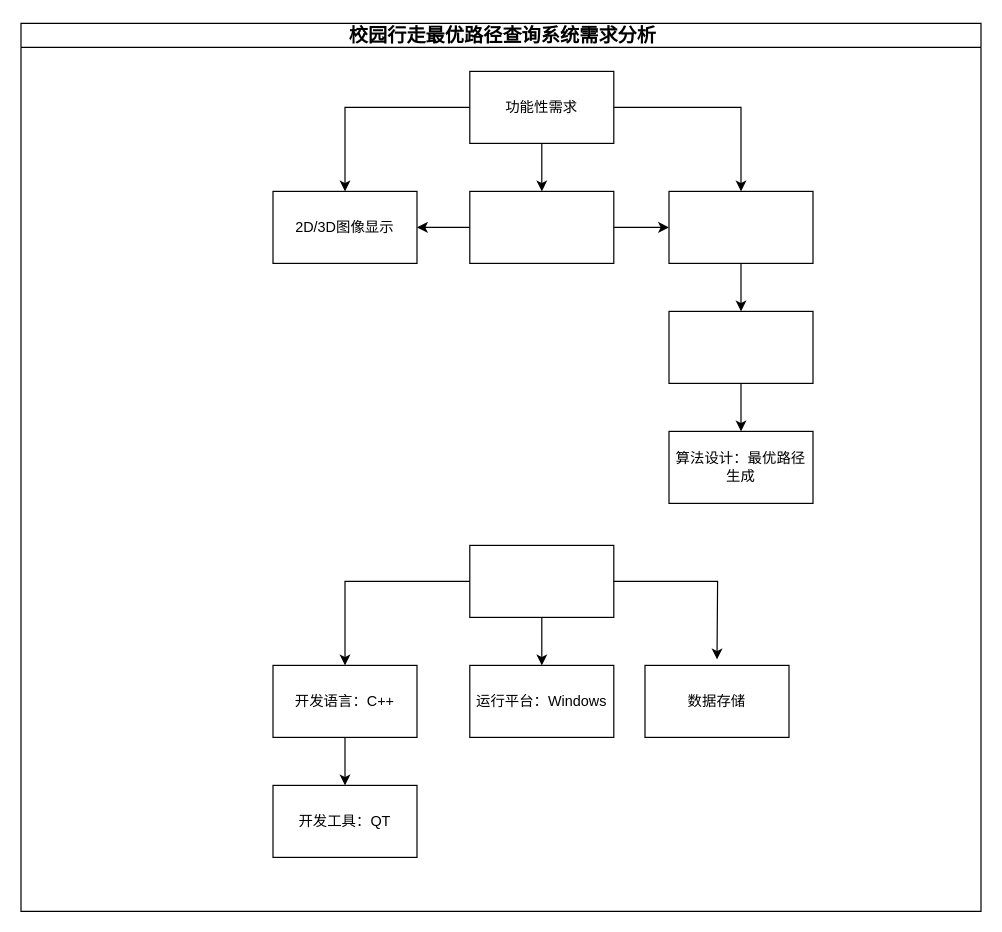
Image size: 1002x932. Some labels were removed from this diagram. The centre of each missing label's shape, as x and y in pixels:
得出最优路径清晰明了: point (740, 346)
用户可选择去任意地方: point (740, 226)
良好的功能操作界面: point (541, 226)
非功能性需求: point (541, 580)
